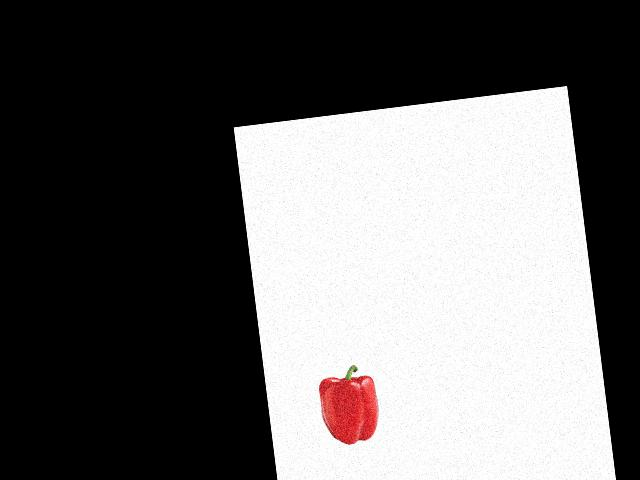bell_pepper: (312, 362, 385, 450)
